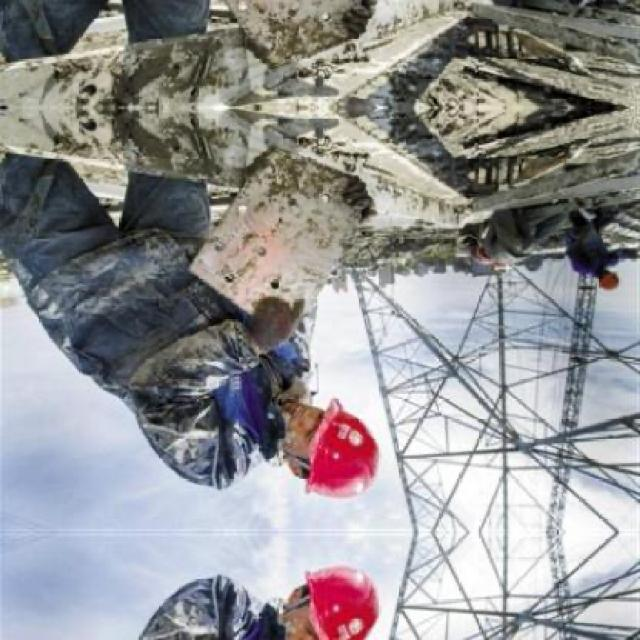con casco: (192, 346, 405, 520)
